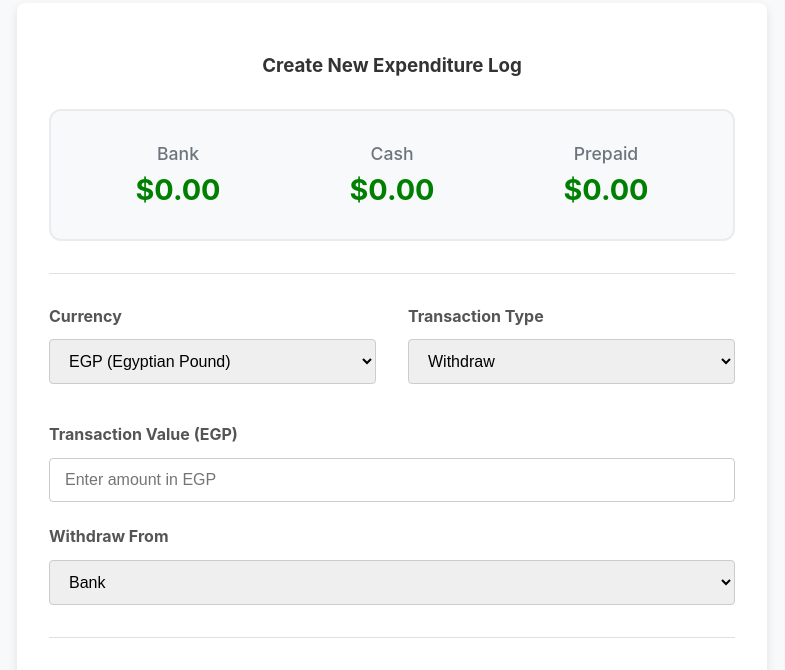
Test: ExpenditureForm - Multi-Currency Selector & Foreign Amount Tests › updates converted EGP equivalent when exchange rate changes
# Switch to EUR
Step 1. Select "EUR (Euro)" in the dropdown labelled "Currency" → (212, 362), box [49,339,376,384]
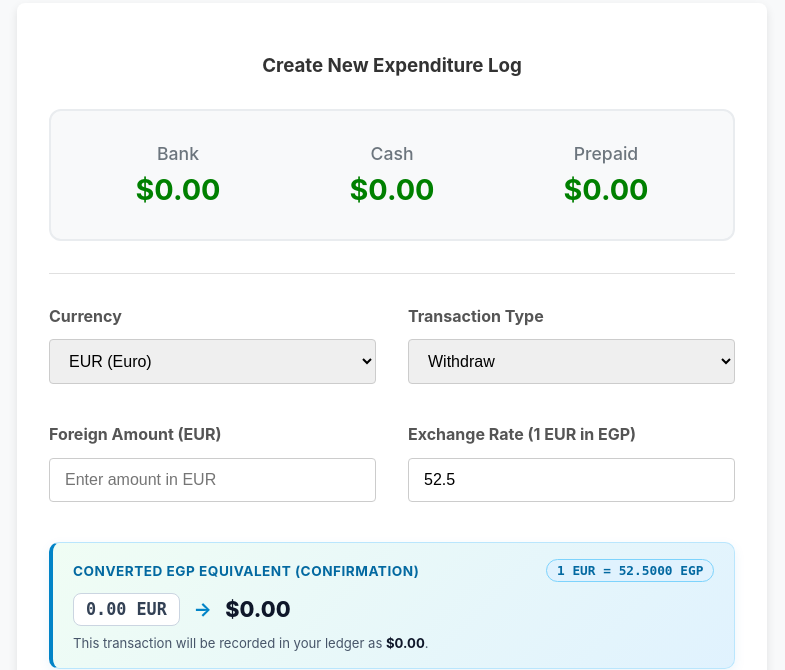
Step 2. Type "200" into the number field labelled "Foreign Amount (EUR)" → (212, 480), box [49,458,376,502]
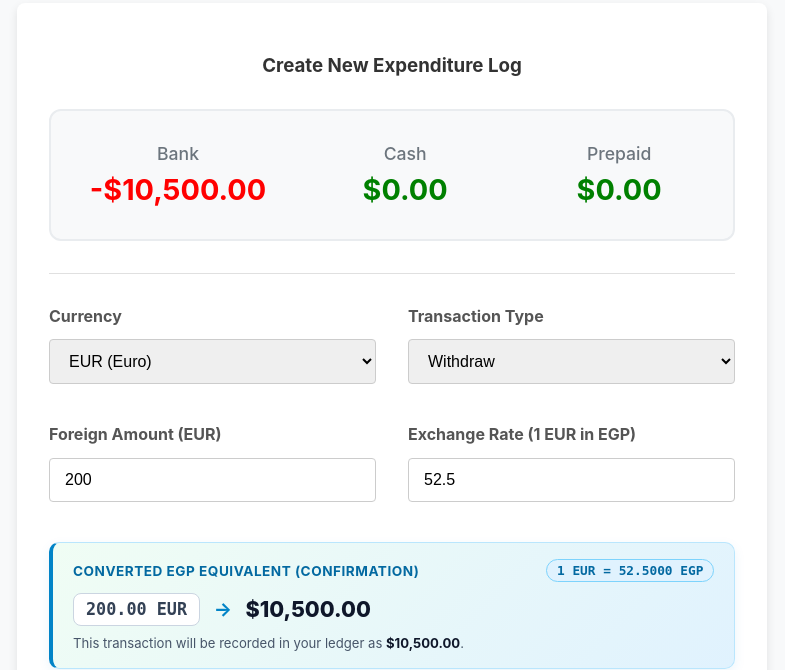
Step 3. Replace the text in the number field labelled "Exchange Rate (1 EUR in EGP)" with "50.00" → (572, 480), box [408,458,735,502]
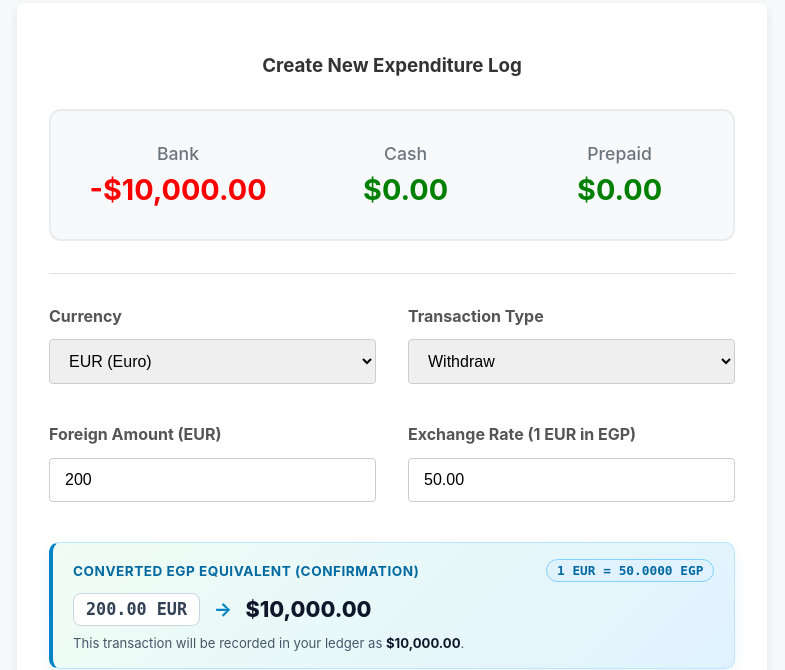
expect the text with test id "converted-egp-value" shows "10,000": met, box [246,596,372,622]
